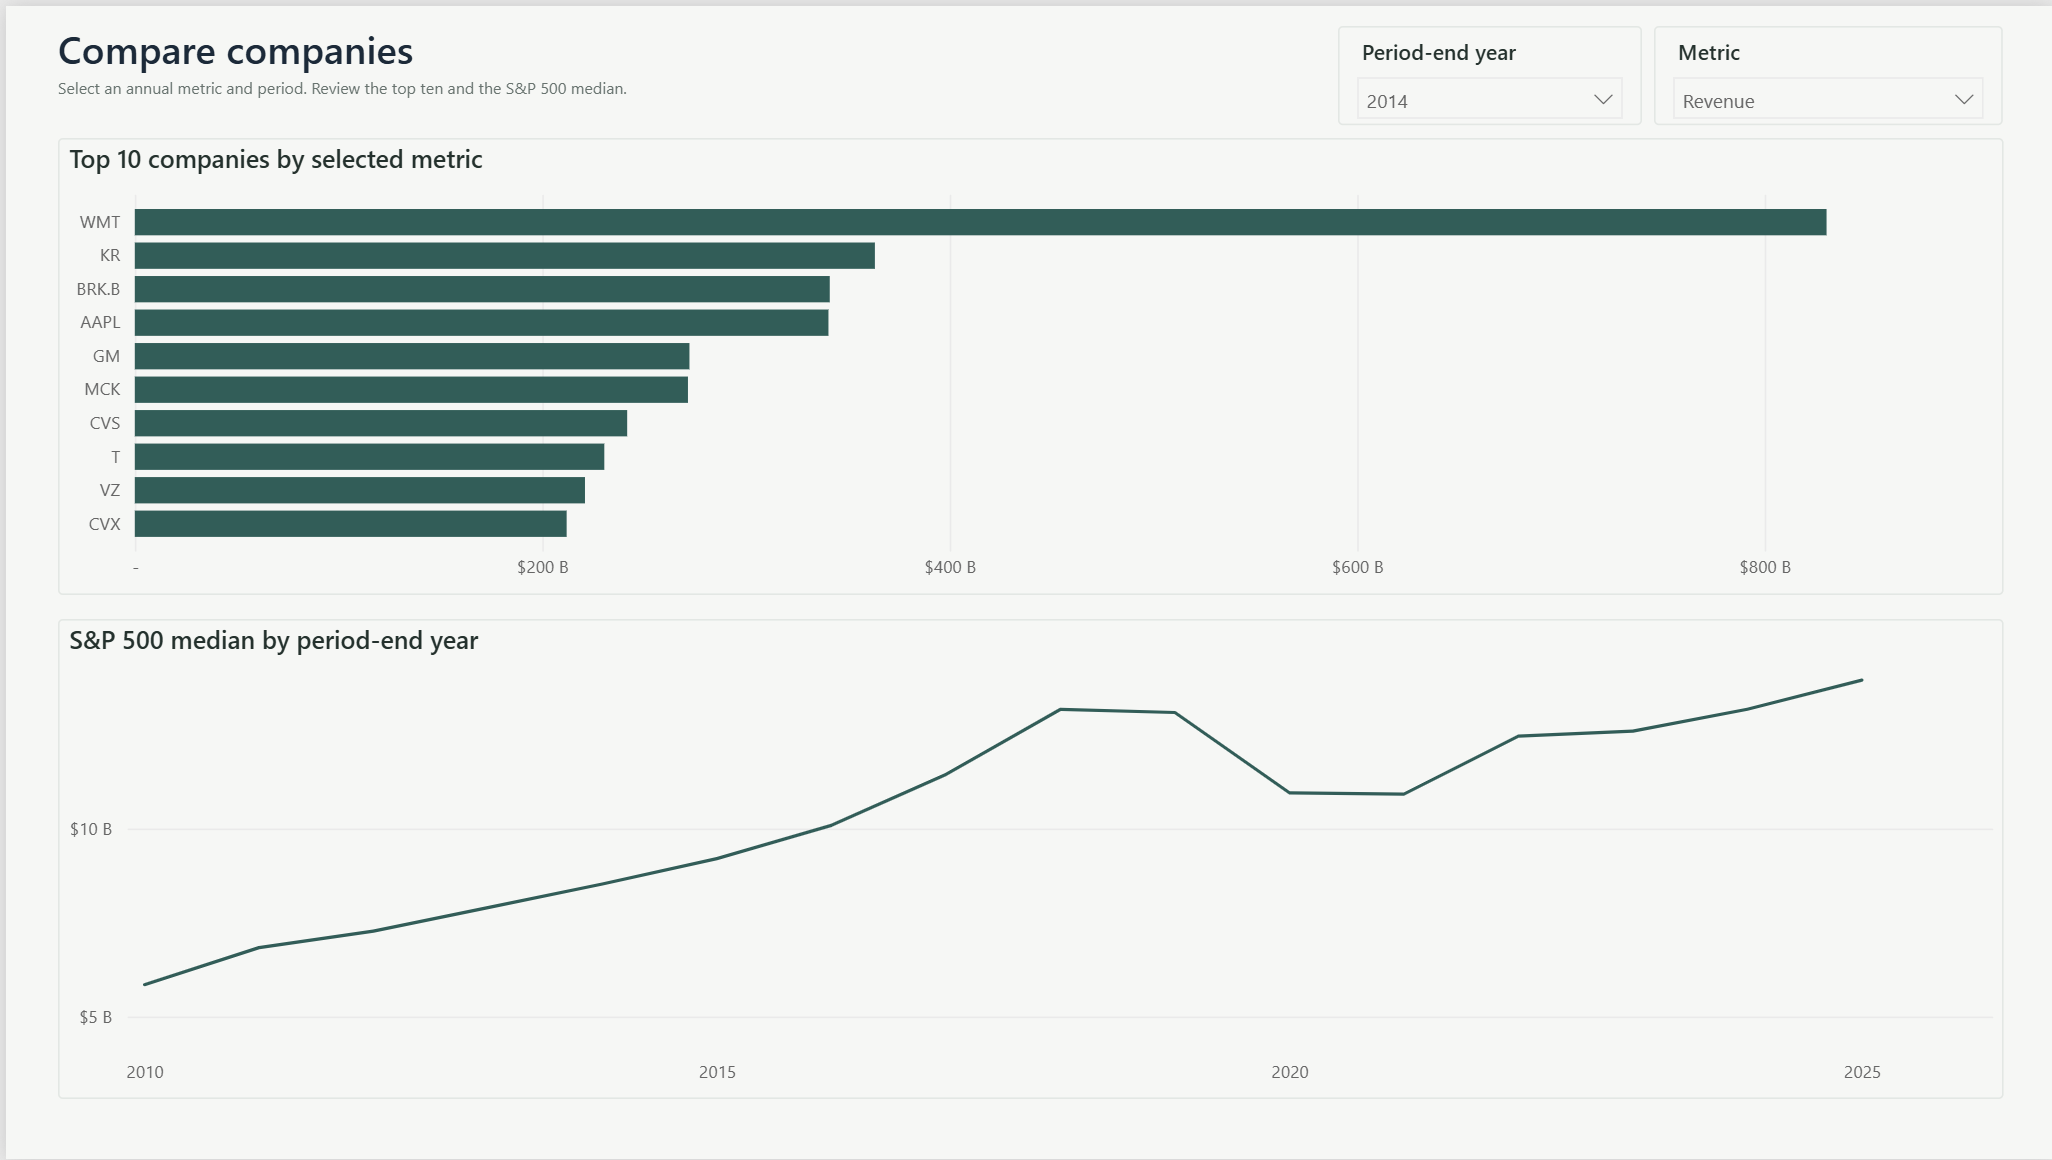

What the dashboard file says about the page in this screenshot:
{"tool":"powerbi","page":{"name":"Company comparison","canvas":[1280,720],"ordinal":2},"visuals":[{"type":"slicer","fields":{"Values":["dim_reporting_period.calendar_year"]},"box":[832,12,190,62],"z":0},{"type":"slicer","fields":{"Values":["MetricSelector.MetricName"]},"box":[1030,12,218,62],"z":0},{"type":"clusteredBarChart","title":"Top 10 companies by selected metric","fields":{"Category":["dim_company.ticker"],"Y":["fact_financial_metric.Selected Metric Value (Display)"]},"box":[32,82,1216,285],"z":0},{"type":"lineChart","title":"S&P 500 median by period-end year","fields":{"Category":["DateTable.Year"],"Y":["fact_financial_metric.Selected Metric Median Trend (Display)"]},"box":[32,382,1216,300],"z":0},{"type":"textbox","box":[32,10,690,52],"z":1000}]}

Visuals, with their boxes in screenshot pixels (x1, y1, x2, y2), scaled from the page's 1280x720 canvas onto the 2052x1160 screenshot:
slicer - dim_reporting_period.calendar_year: {"x1": 1334, "y1": 19, "x2": 1638, "y2": 119}
slicer - MetricSelector.MetricName: {"x1": 1651, "y1": 19, "x2": 2001, "y2": 119}
"Top 10 companies by selected metric" clusteredBarChart: {"x1": 51, "y1": 132, "x2": 2001, "y2": 591}
"S&P 500 median by period-end year" lineChart: {"x1": 51, "y1": 615, "x2": 2001, "y2": 1099}
textbox: {"x1": 51, "y1": 16, "x2": 1157, "y2": 100}
